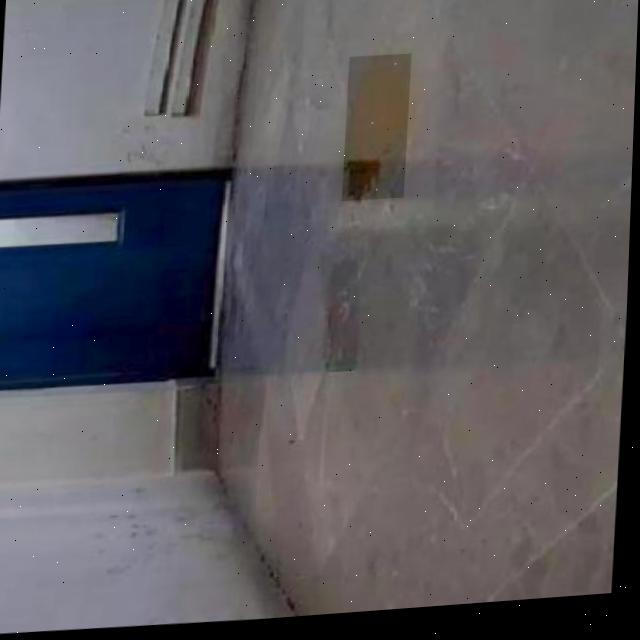spillage: (345, 61, 408, 204)
